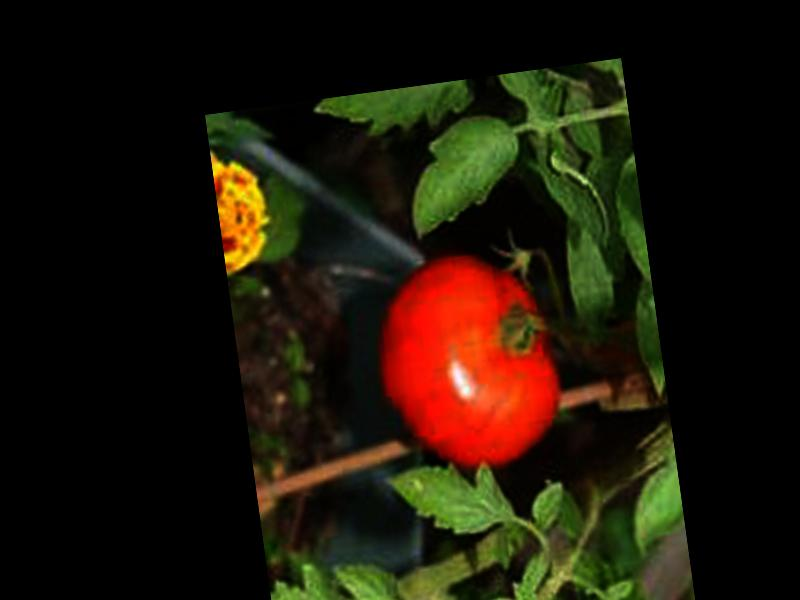Tomato: (367, 239, 572, 484)
